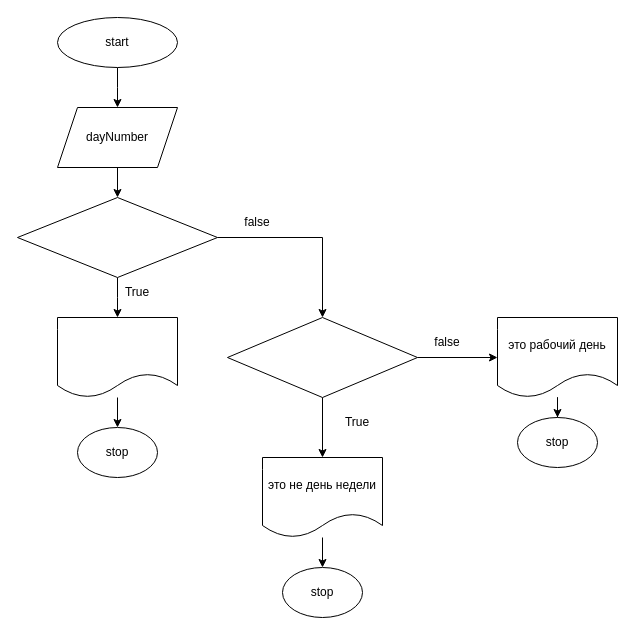
Some shapes in this 635 by 635 pixel diagram are drawn without their labels. The centre of each missing label's shape, as x and y in pixels:
"dayNumber < 1 || dayNumber > 7" belongs at point 322,357.
"dayNumber == 6 || dayNumber ==7" belongs at point 117,237.
"этот день выходной" belongs at point 117,357.
